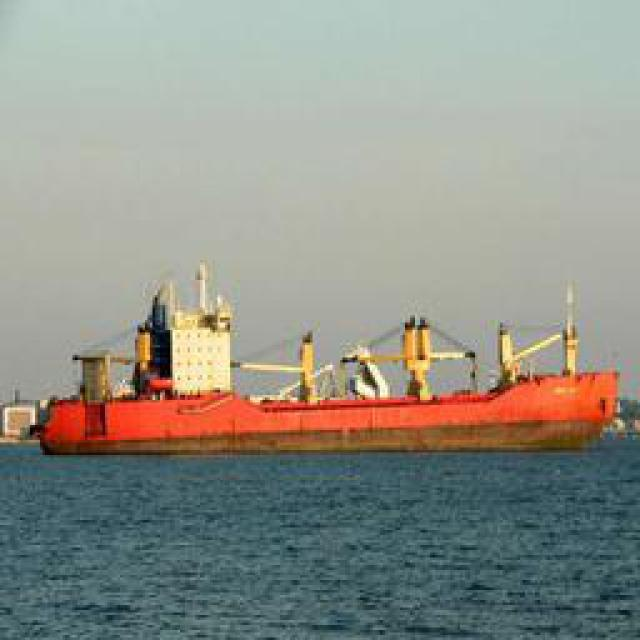Ship: (32, 283, 620, 458)
